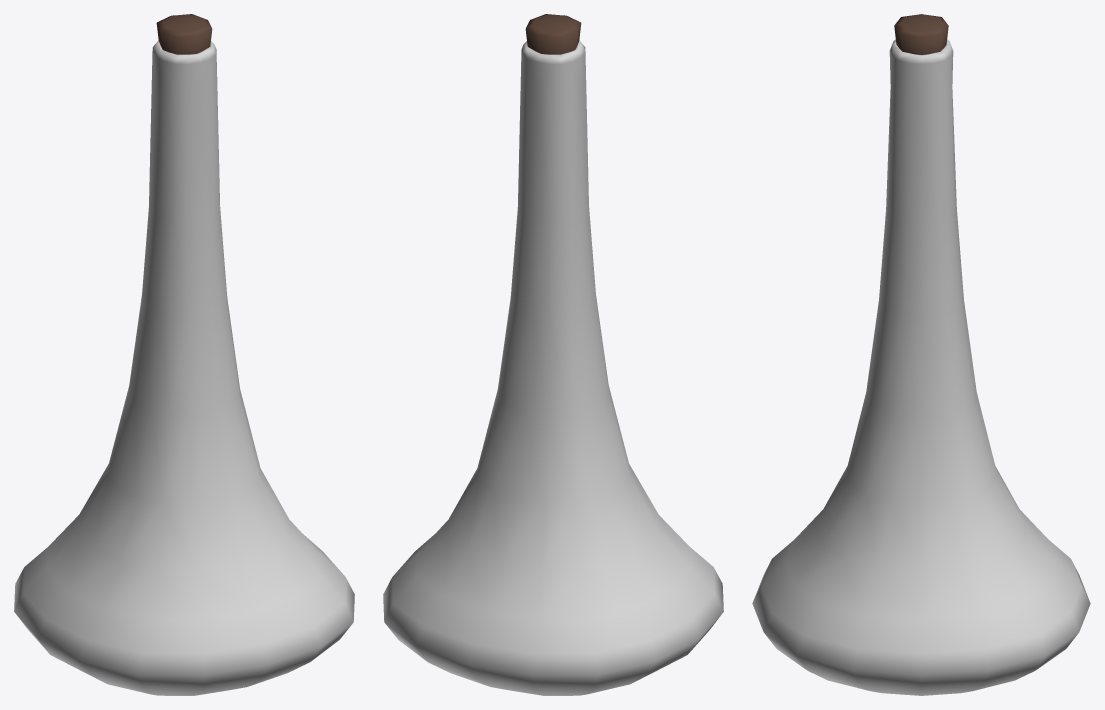
The model's file is Potion7_Filled.glb.
The picture shows the model from 3 angles, left to right: view 1: azimuth 30°, elevation 25°; view 2: azimuth 150°, elevation 25°; view 3: azimuth 270°, elevation 25°; orthographic projection.
Visible parts, largest first — view 1: Potion7_Filled; view 2: Potion7_Filled; view 3: Potion7_Filled.
Part boxes in pixels (bbox=[...]): Potion7_Filled: bbox=[14, 14, 354, 695]; Potion7_Filled: bbox=[383, 14, 723, 695]; Potion7_Filled: bbox=[752, 14, 1090, 695].
Size of the model in its own units: 0.7035 by 1.51 by 0.7035.
